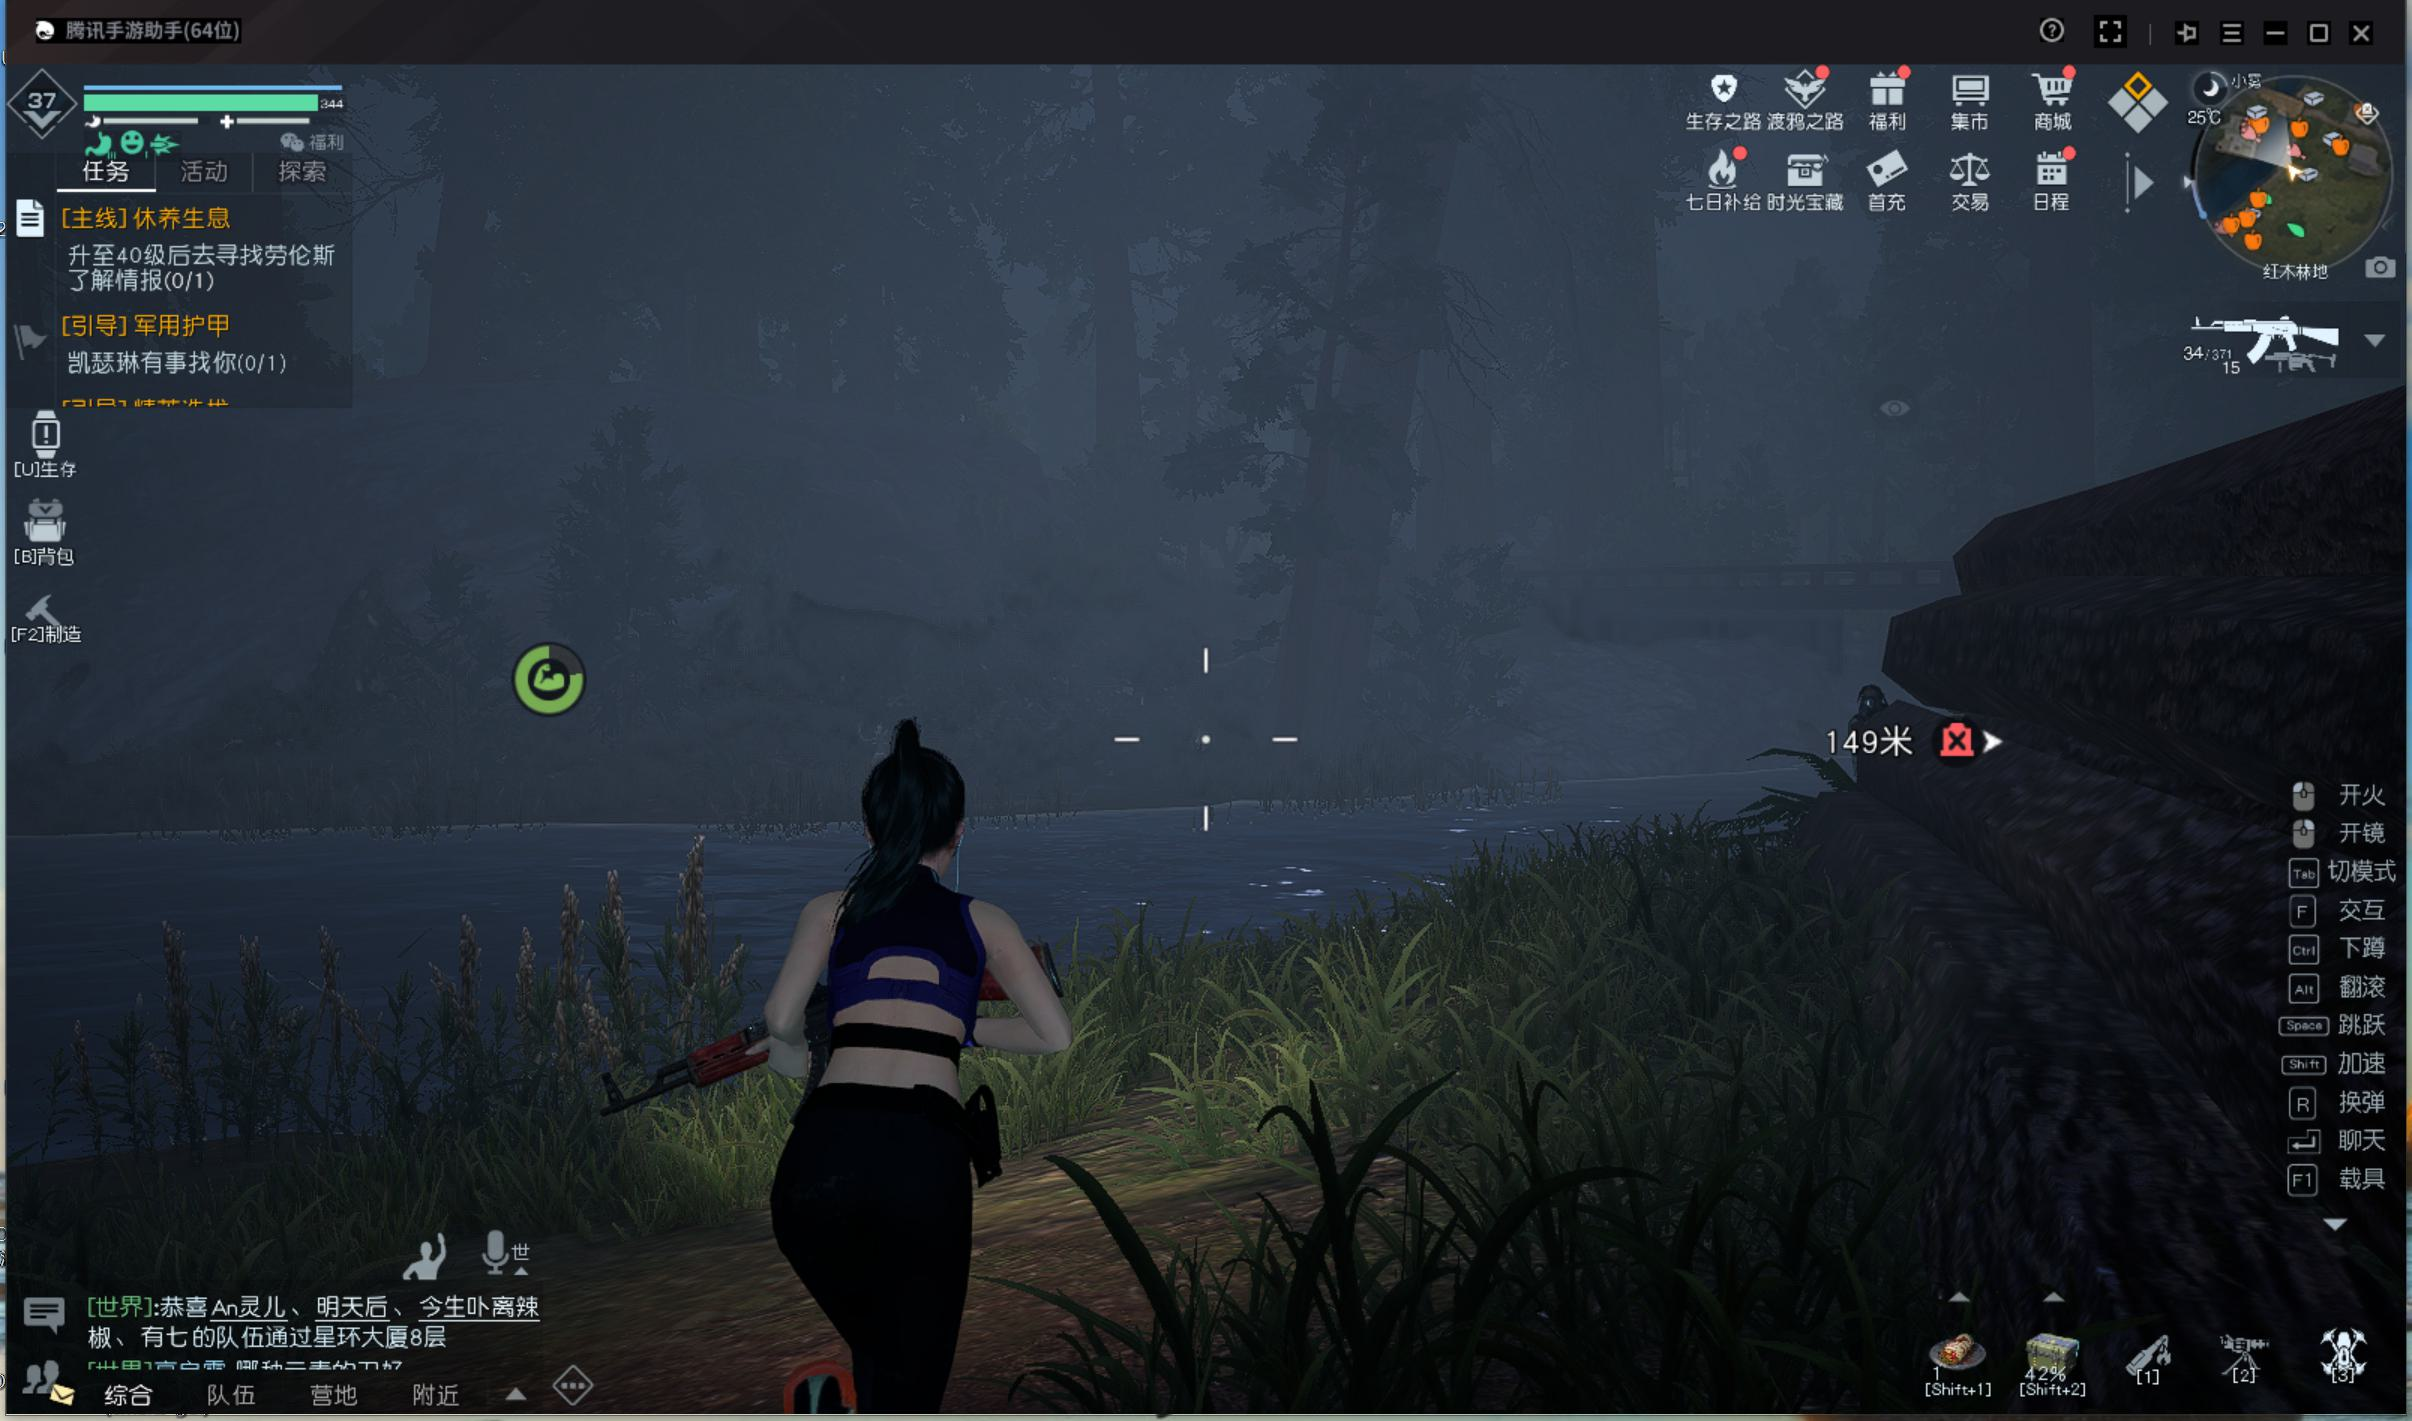tree: (1267, 352, 1328, 776), (1083, 296, 1159, 584)
